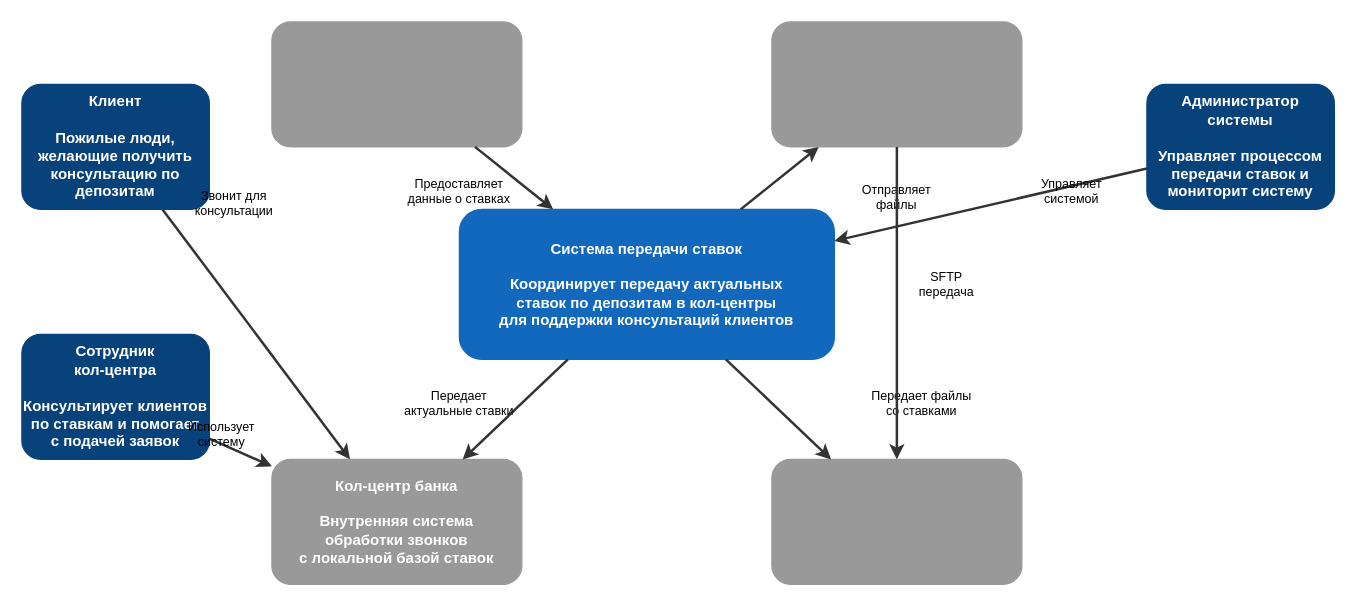
The diagram is 1356 pixels wide and 606 high, and some of its shapes have lost their labels. The shapes that lost their labels are listed below. From the top down, each one's box as (x1, y1, x2, y2) in pixels, then its label:
(271, 21, 522, 147): Сервис ставок Основная система управления ставками по депозитам
(771, 21, 1022, 147): SFTP-сервер Безопасная передача файлов со ставками партнерскому кол-центру
(771, 458, 1022, 584): Партнерский кол-центр Внешняя система получает ставки через SFTP
